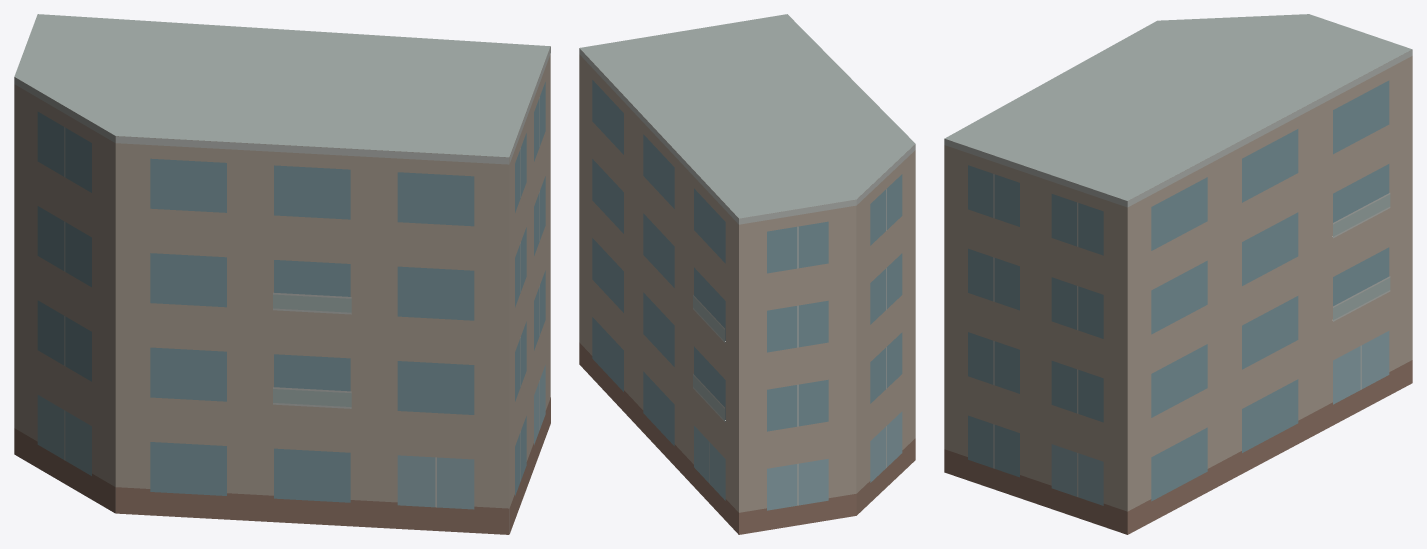
The model's file is survey-upis-32801251.glb.
The picture shows the model from 3 angles, left to right: view 1: azimuth 30°, elevation 25°; view 2: azimuth 150°, elevation 25°; view 3: azimuth 270°, elevation 25°; orthographic projection. The views are drawn at different scales.
Visible parts, largest first — view 1: survey-upis-32801251.tmp; view 2: survey-upis-32801251.tmp; view 3: survey-upis-32801251.tmp.
Part boxes in pixels (x1,y1,x2,y2): survey-upis-32801251.tmp: (14,14,550,534); survey-upis-32801251.tmp: (579,14,915,534); survey-upis-32801251.tmp: (944,14,1412,534).
Bounding box in the file's own units: 15.26 × 12.69 × 16.14.
